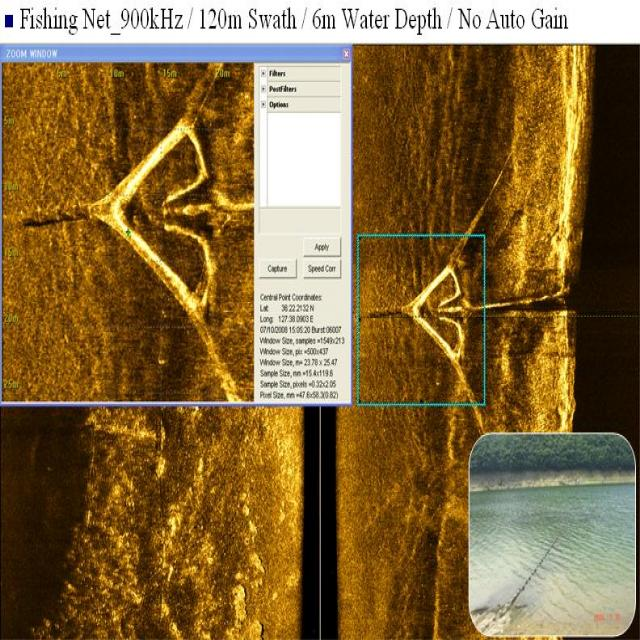other: (83, 75, 251, 402), (357, 224, 490, 400)
